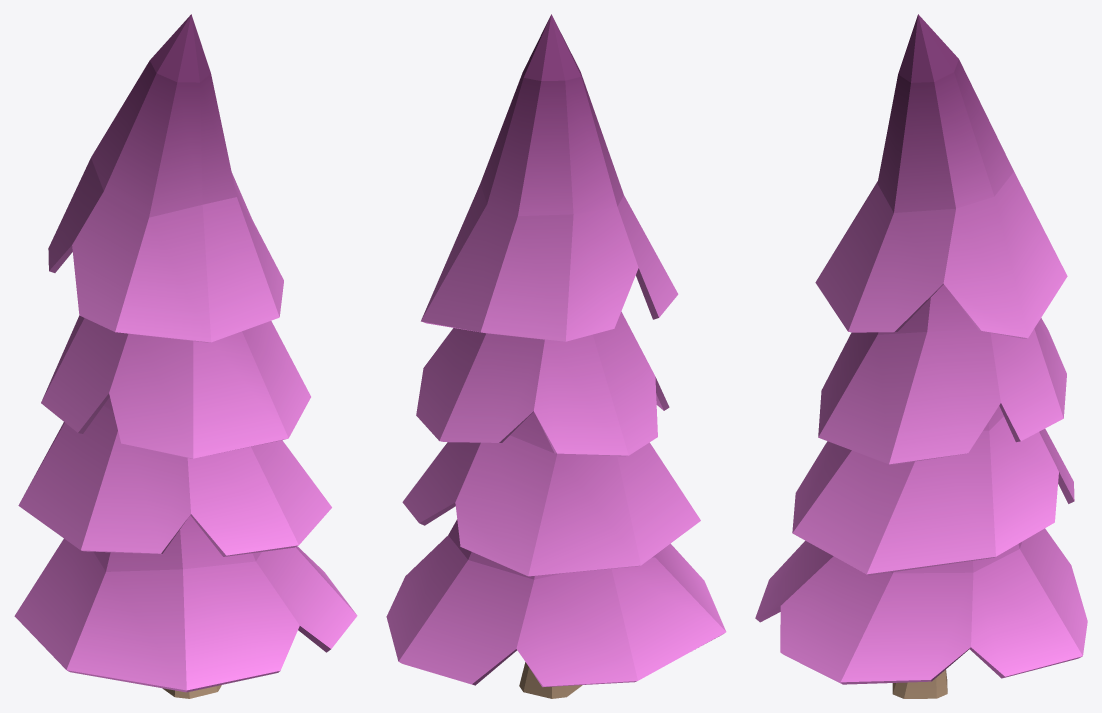
Rendered from SpringPine6.fbx.
3 renders of one model, left to right at view 1: azimuth 30°, elevation 25°; view 2: azimuth 150°, elevation 25°; view 3: azimuth 270°, elevation 25°, orthographic.
Visible parts, largest first — view 1: SpringPine6; view 2: SpringPine6; view 3: SpringPine6.
Boxes of the visible parts, <box> form: SpringPine6: <box>14,14,357,698</box>; SpringPine6: <box>386,14,726,698</box>; SpringPine6: <box>755,14,1087,698</box>.
Bounding box in the file's own units: 499 × 1107 × 495.
